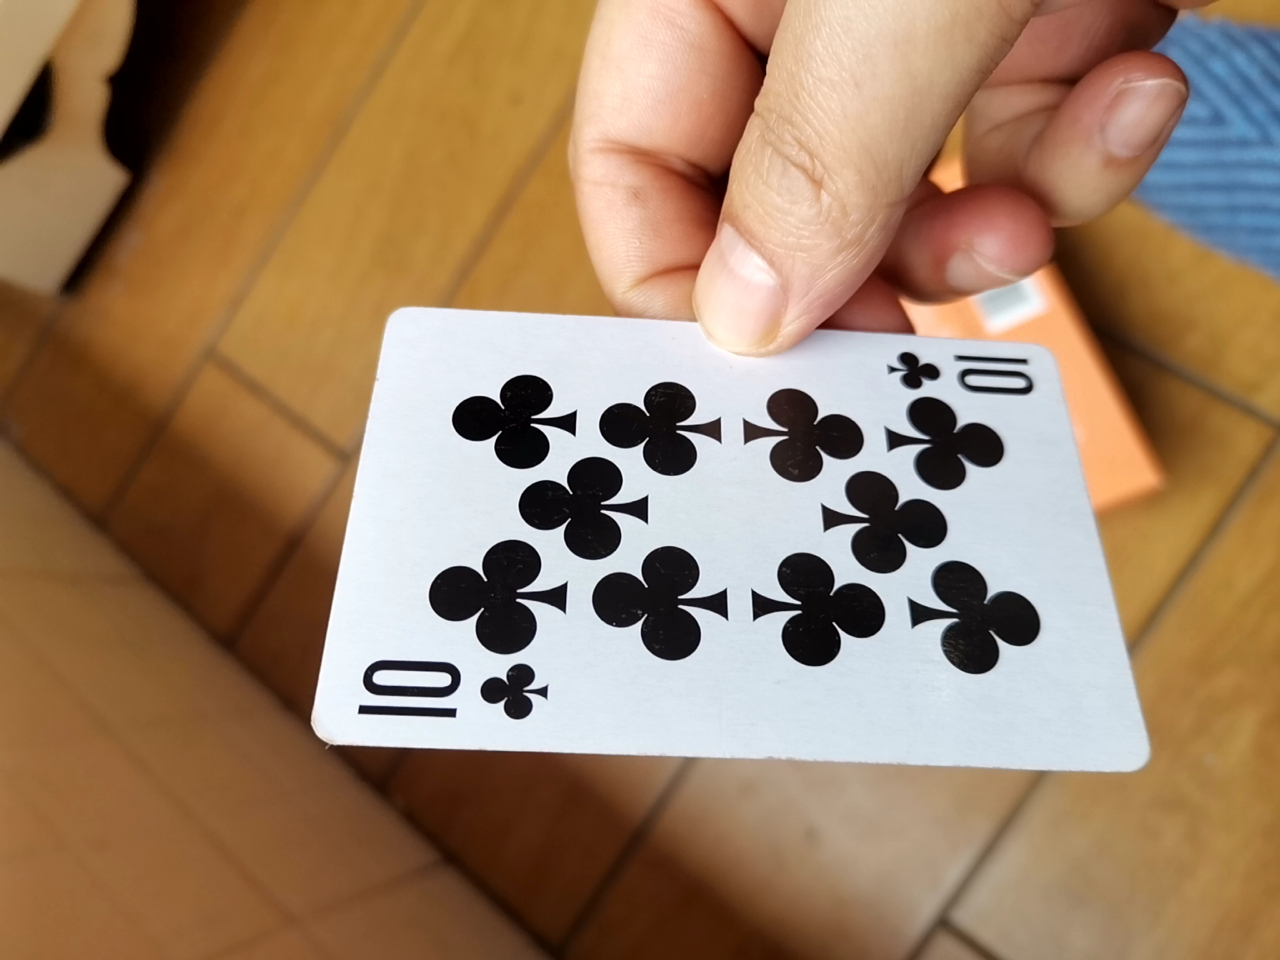mh 10: (309, 313, 1135, 774)
